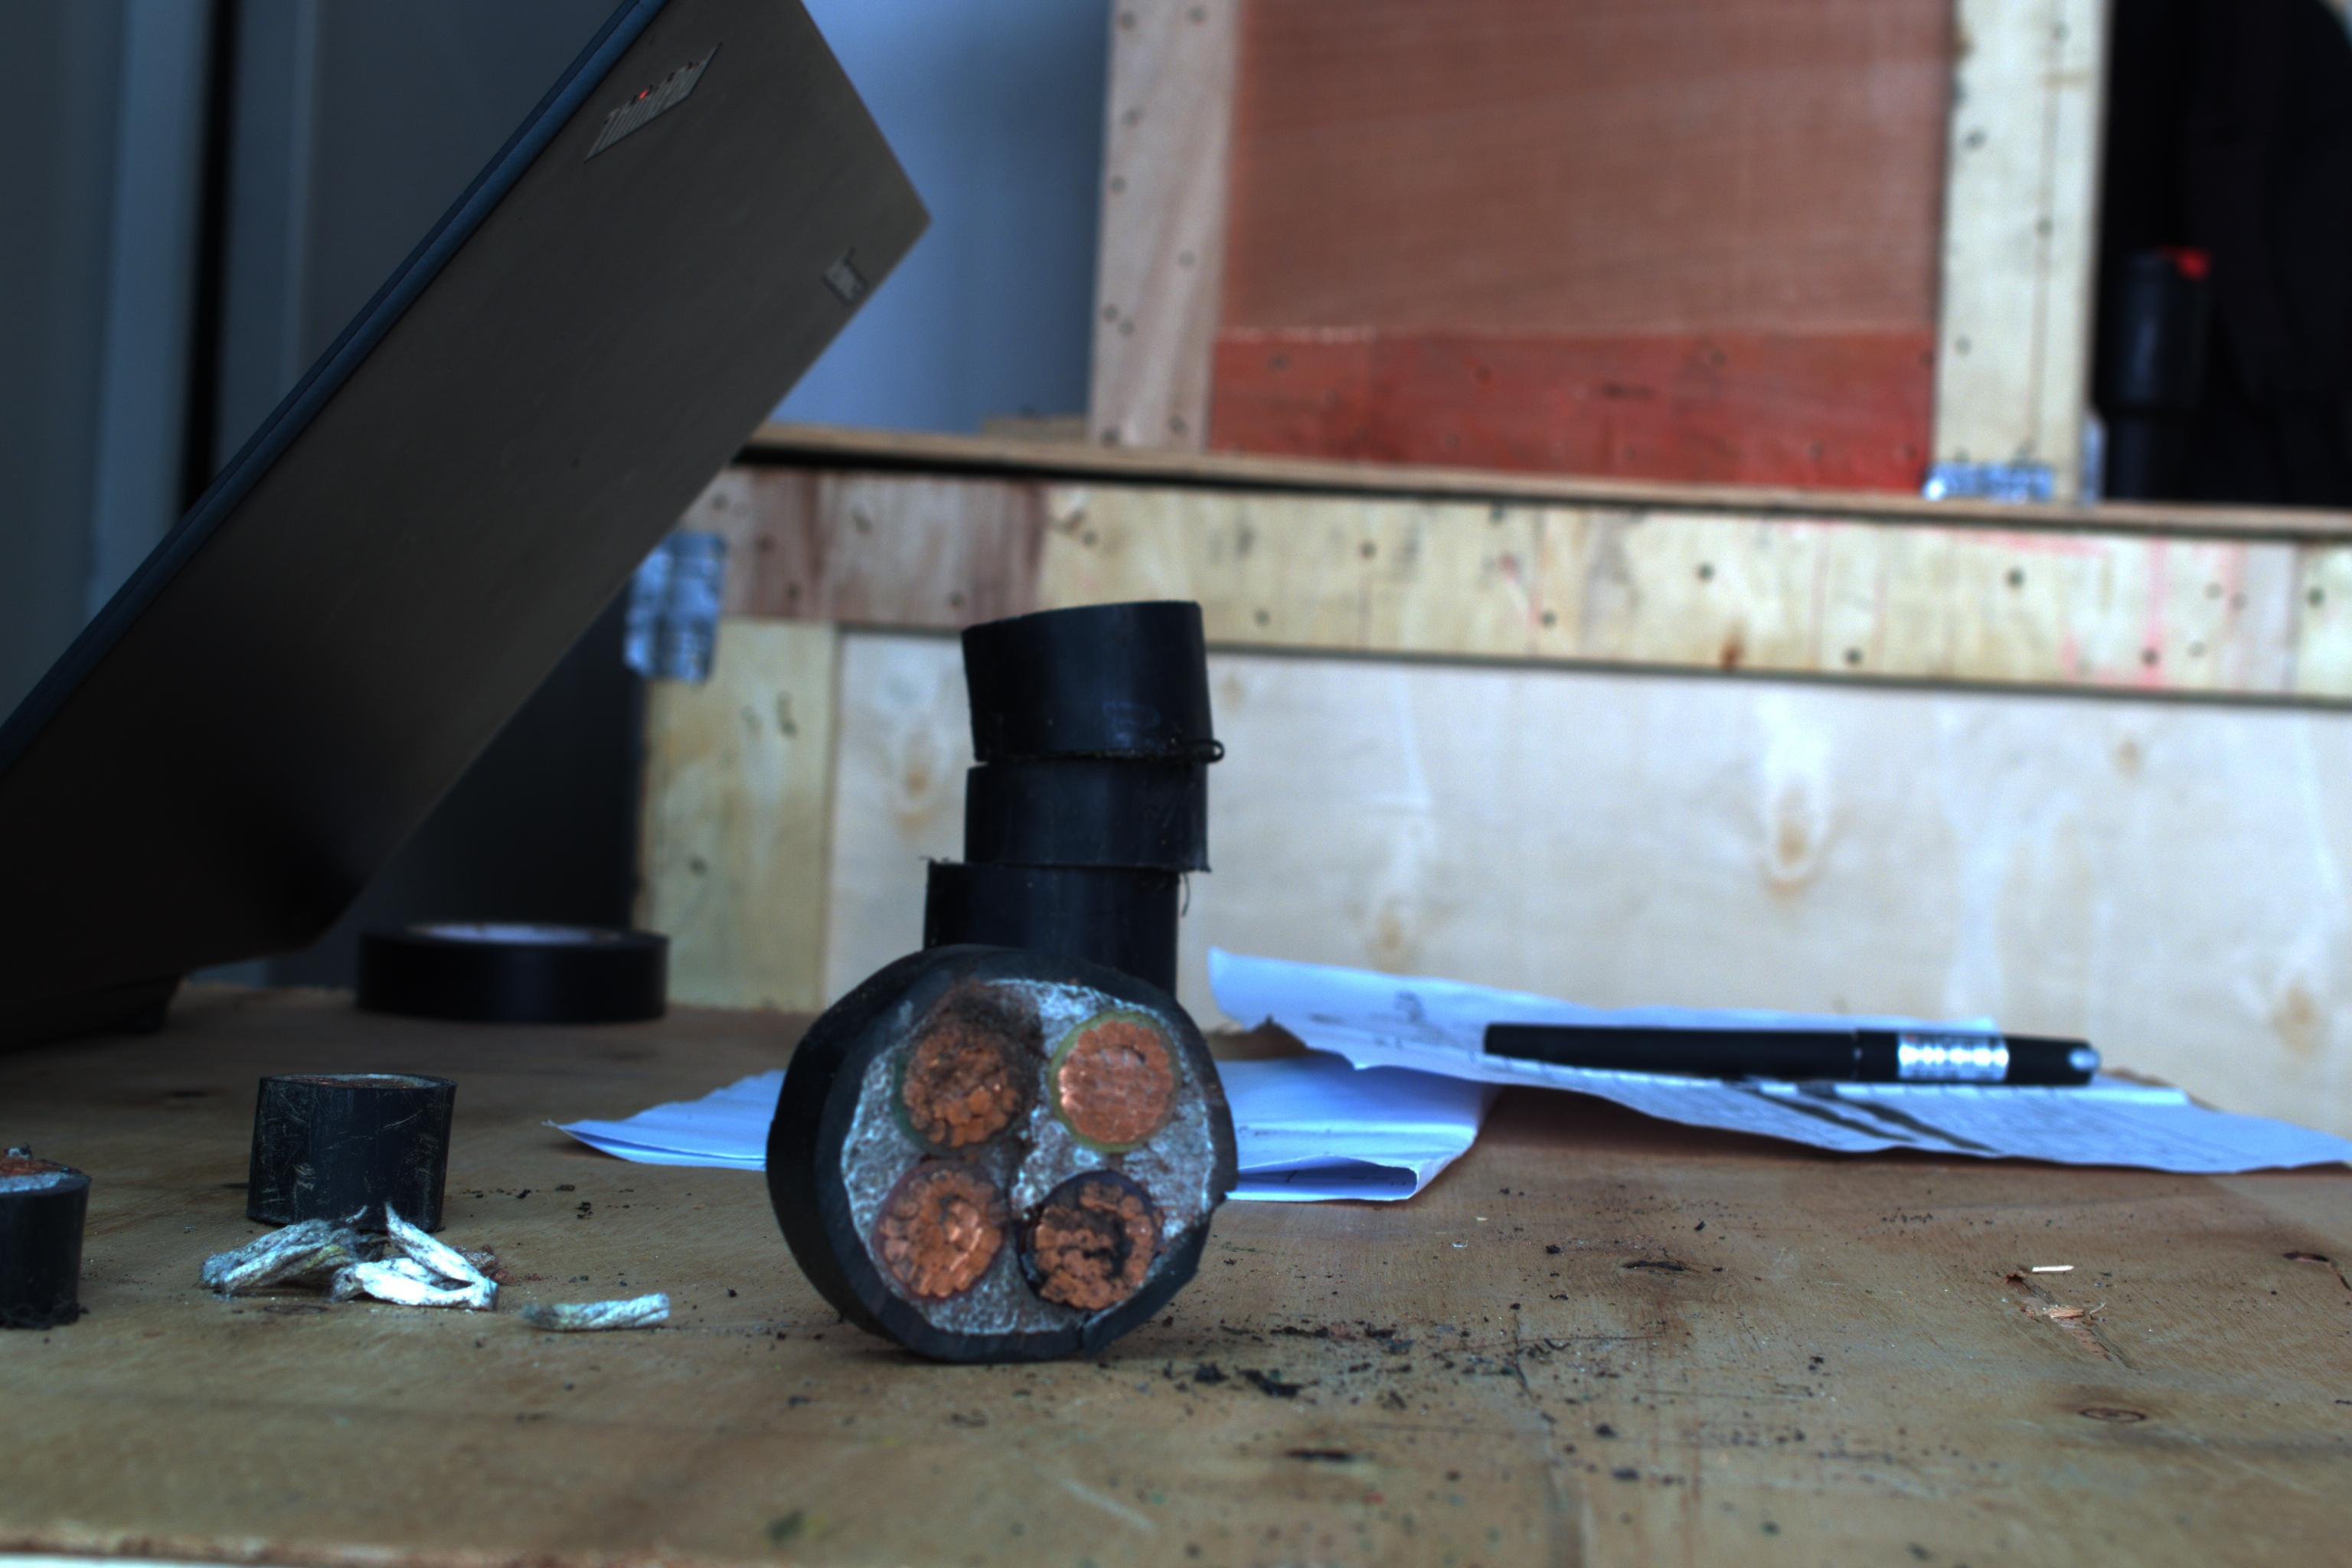YJV_0.6_1kV_4x120: (803, 961, 1244, 1340)
